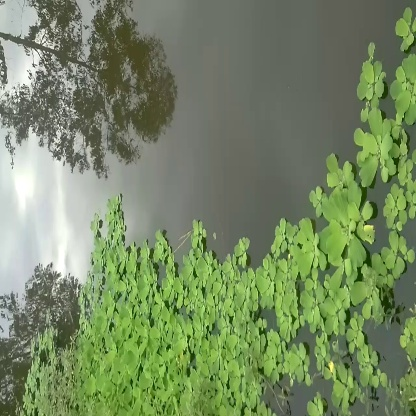grass: (95, 233, 274, 330)
